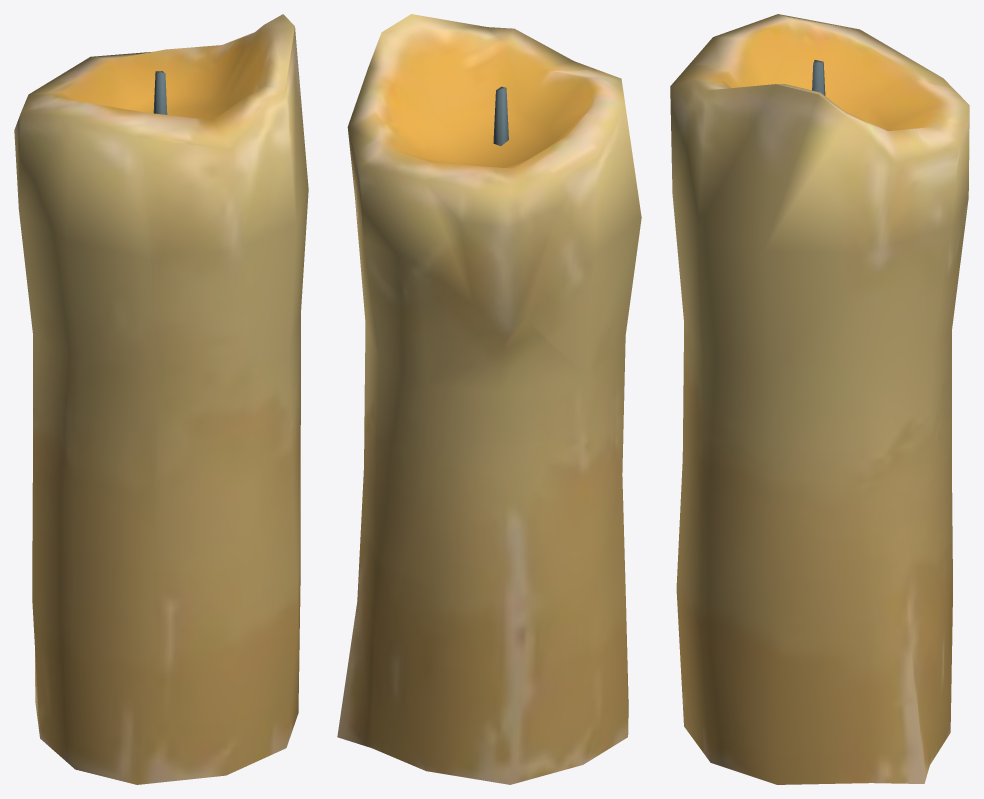
File: Candle_2.glb
The picture shows the model from 3 angles, left to right: view 1: azimuth 30°, elevation 25°; view 2: azimuth 150°, elevation 25°; view 3: azimuth 270°, elevation 25°; orthographic projection. The views are drawn at different scales.
Visible parts, largest first — view 1: Candle_2; view 2: Candle_2; view 3: Candle_2.
Part boxes in pixels (x1=…): Candle_2: x1=14, y1=14, x2=308, y2=784; Candle_2: x1=337, y1=14, x2=641, y2=784; Candle_2: x1=670, y1=14, x2=969, y2=784.
Size of the model in its own units: 0.0944 by 0.2511 by 0.0976.
1 material, 1 textured.
